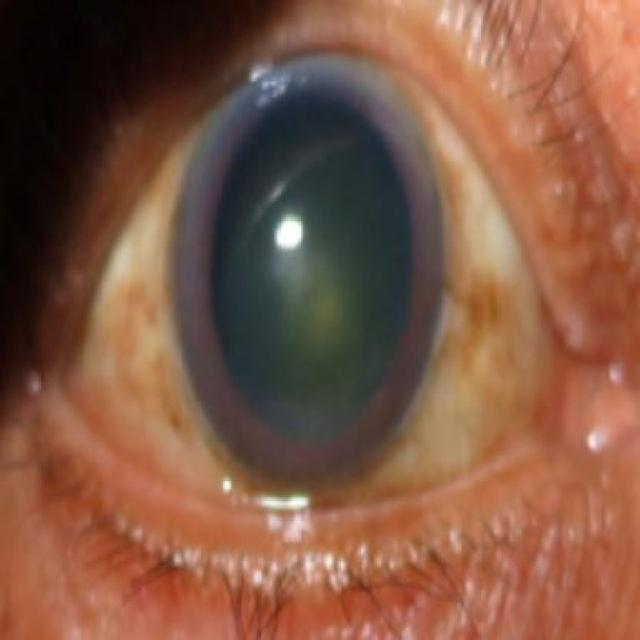Cataract: (169, 52, 441, 493)
